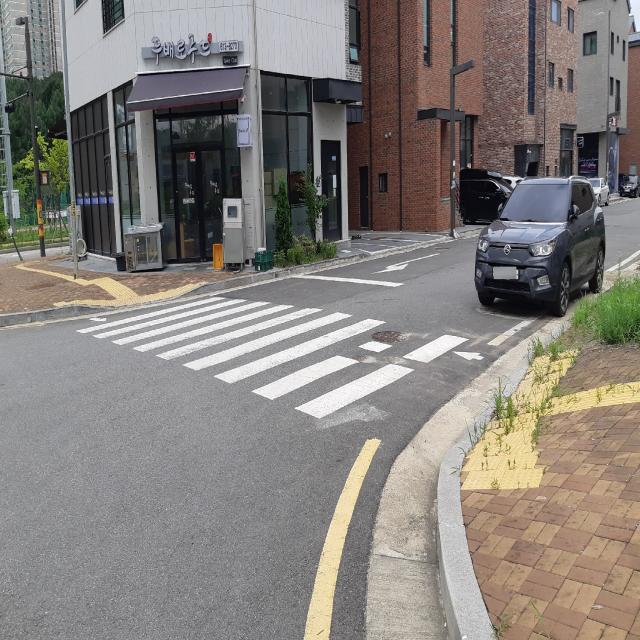횡단보도: (76, 294, 484, 421)
